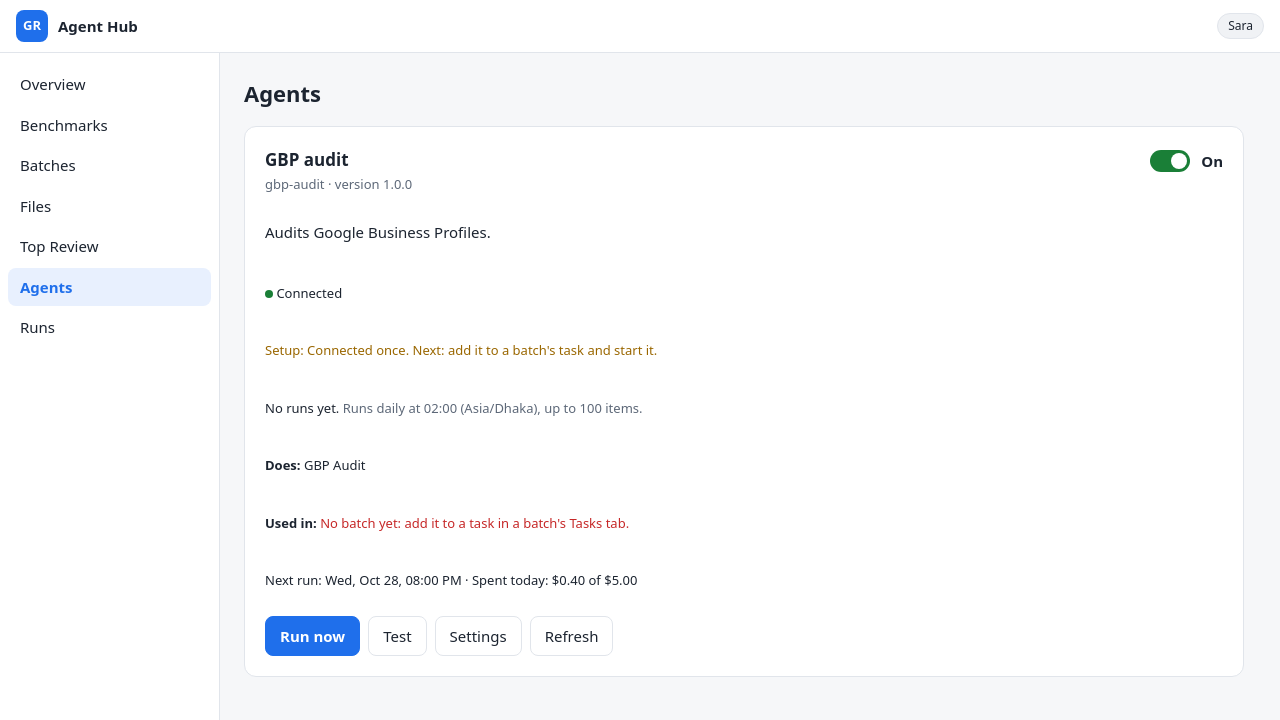
Test case: an Admin switches an agent off and runs it
The image size is (1280, 720).
Click the button "Run now": x=313, y=636 [265, 616, 360, 656]
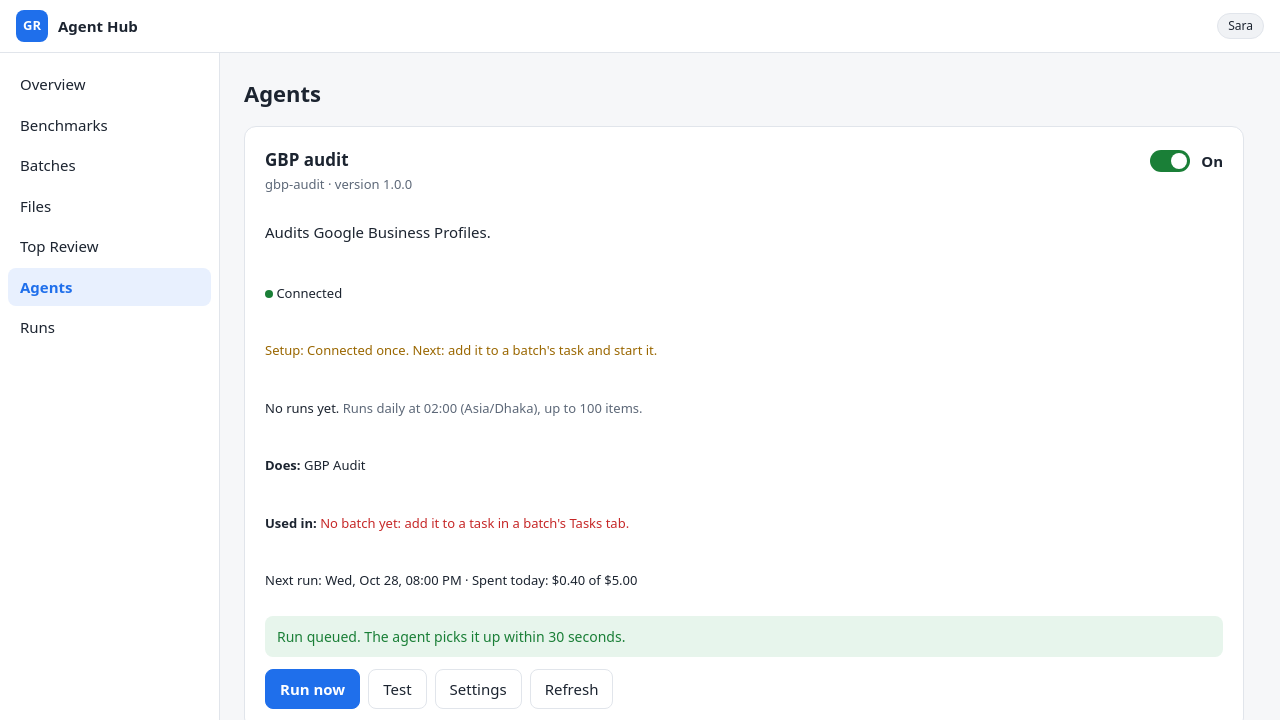
Expected: the text "Run queued. The agent picks it up within 30 seconds." is shown, [265, 616, 1223, 656]
Click the switch: x=1170, y=161 [1150, 150, 1190, 172]
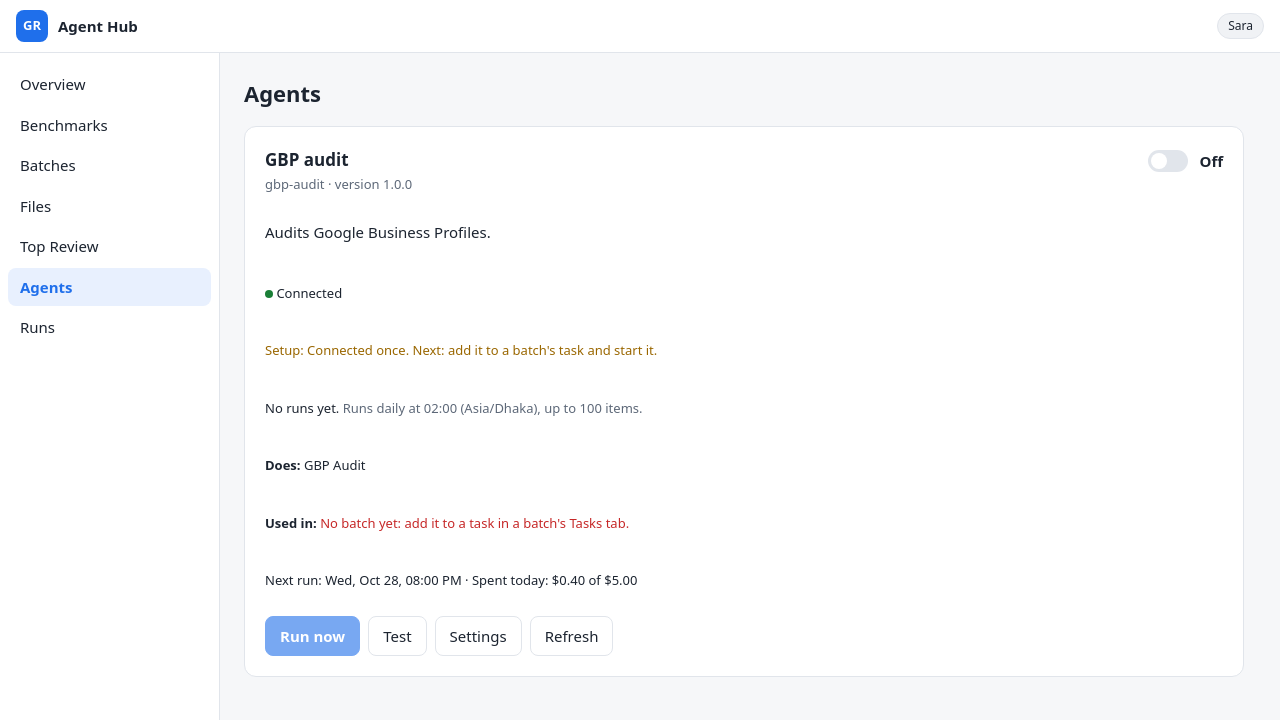
Expected: the text "Off" is shown, [1199, 150, 1223, 172]
